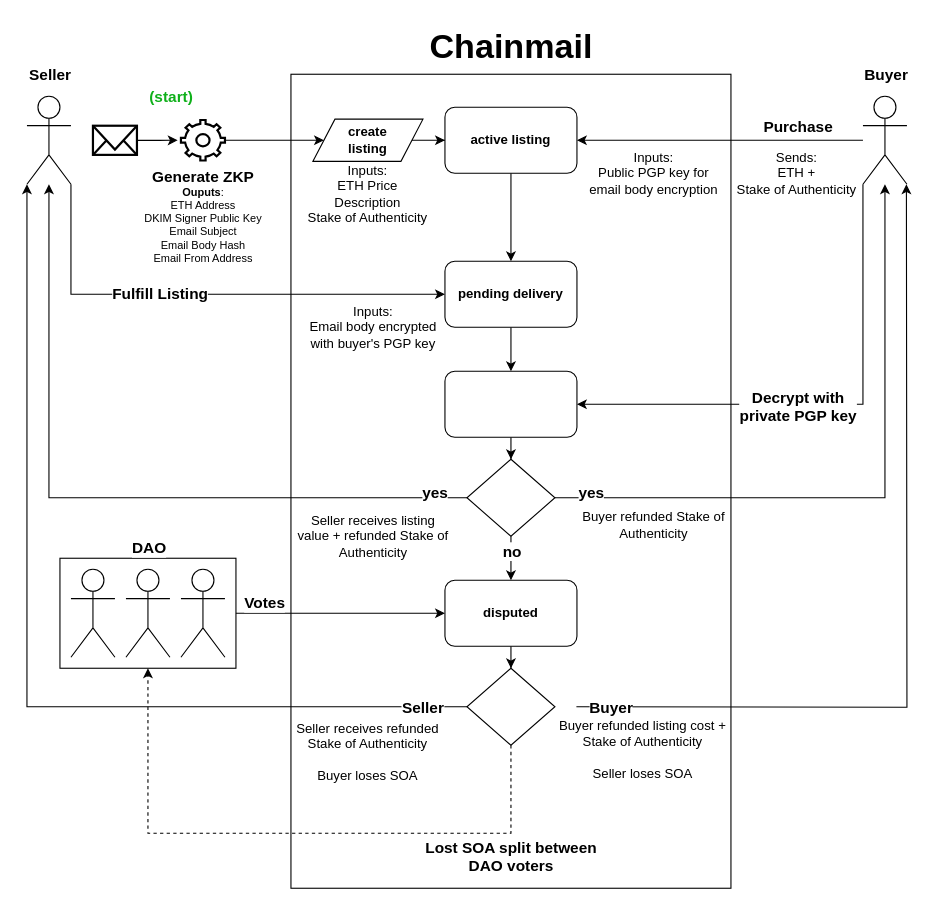
Some shapes in this 935 by 908 pixel diagram are drawn without their labels. Here are the shapes that lost their labels. From the top down, the centre of each, then its label:
At (x=510, y=403): "fulfilled".
At (x=510, y=497): "buyer happy?".
At (x=510, y=706): "winner".
